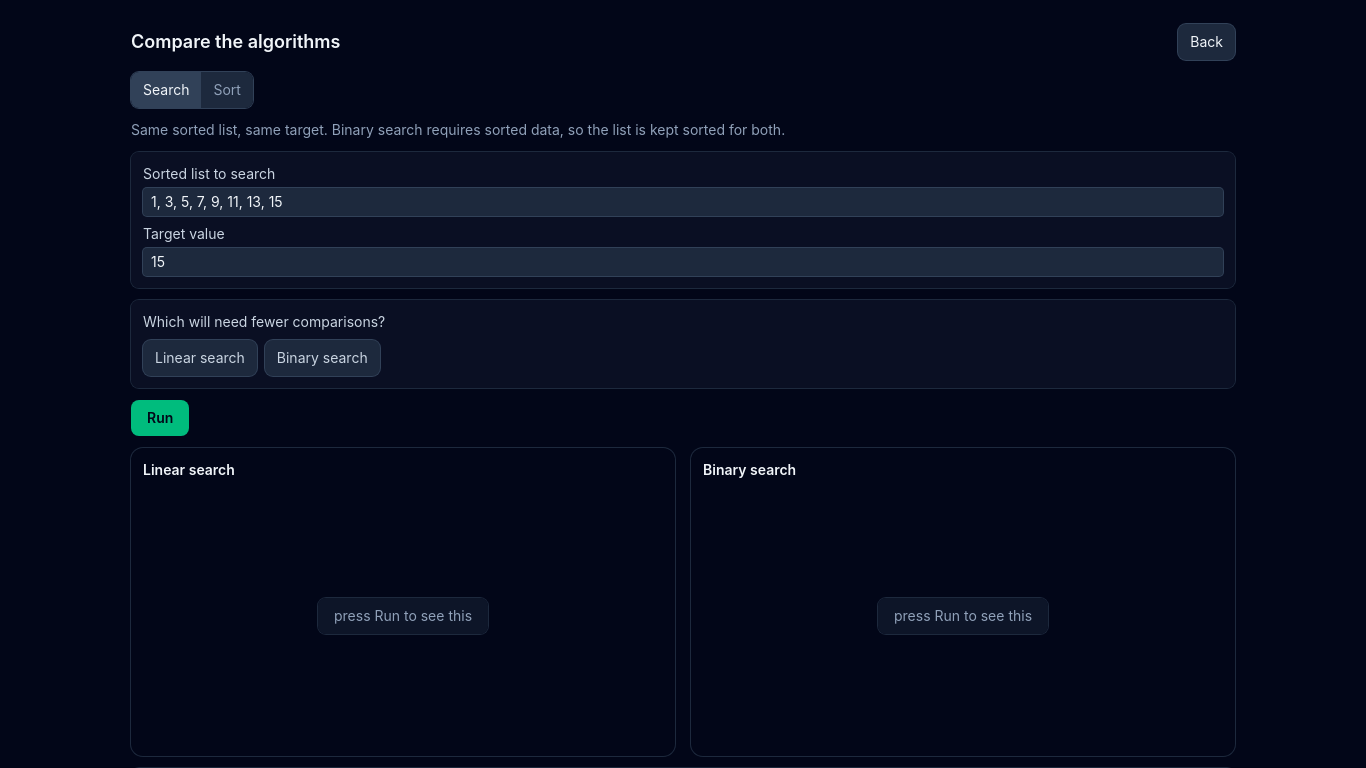
Test case: Compare — pick-the-winner (AC-9.8) › the winner buttons are disabled once a comparison has actually run
What coordinates should you click on to do the following:
click the button "Run"
I would click on:
 (160, 418)
Its box is left=131, top=400, right=189, bottom=436.
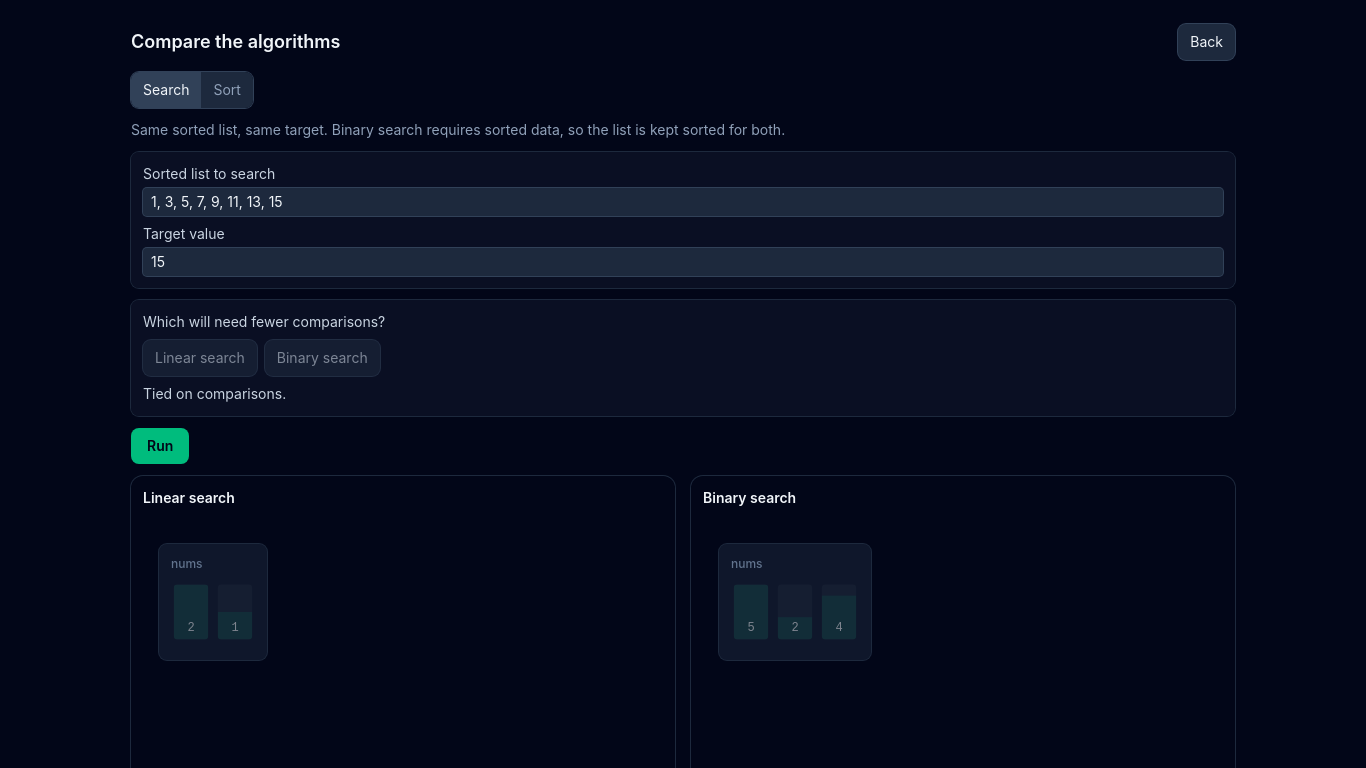
Result: the button "Linear search" is disabled at left=143, top=340, right=257, bottom=376
